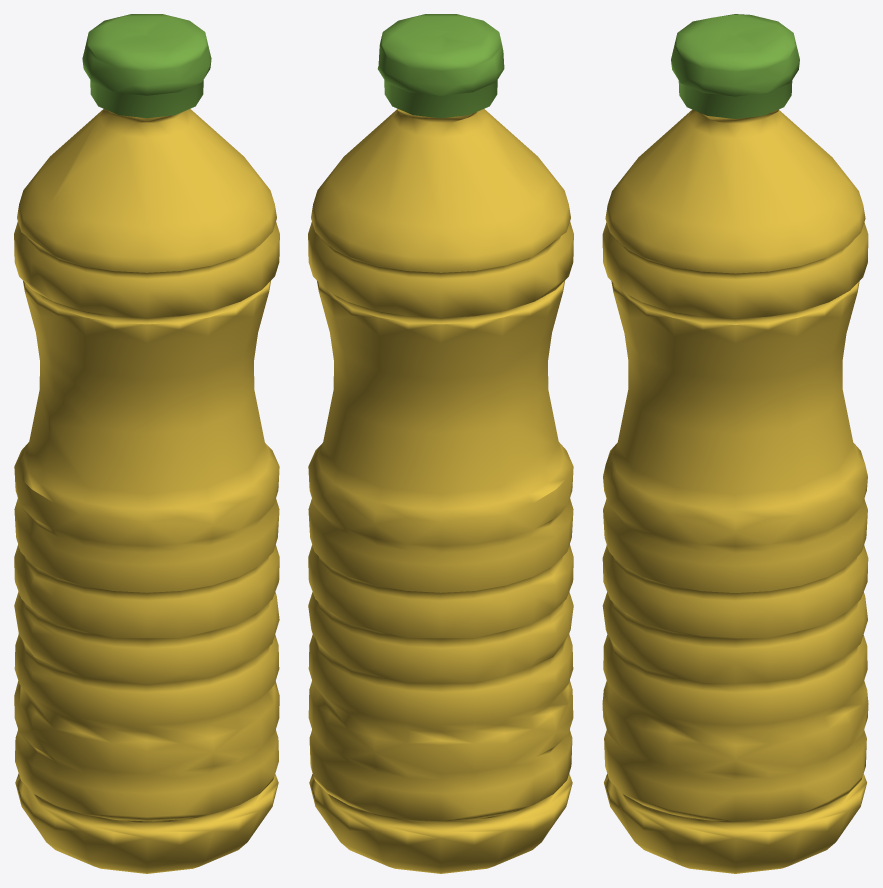
File: cooking_oil (1).fbx
The picture shows the model from 3 angles, left to right: view 1: azimuth 30°, elevation 25°; view 2: azimuth 150°, elevation 25°; view 3: azimuth 270°, elevation 25°; orthographic projection.
Parts seen in each view (by area): view 1: nurbsToPoly2; view 2: nurbsToPoly2; view 3: nurbsToPoly2.
Part boxes in pixels (x1,y1,x2,y2): nurbsToPoly2: (14,14,279,873); nurbsToPoly2: (308,14,573,873); nurbsToPoly2: (602,14,868,873).
Size of the model in its own units: 2.12 by 7.05 by 2.11.
